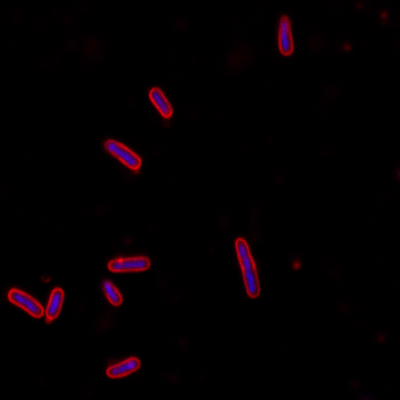Oblique: (97, 277, 124, 307), (277, 14, 295, 56)
Rifampicin: (234, 237, 262, 301), (103, 138, 142, 171), (7, 287, 44, 319), (106, 356, 142, 380), (107, 256, 151, 275), (149, 87, 173, 120), (45, 287, 65, 322)
Vesicle: (291, 258, 301, 270), (342, 42, 351, 51)
